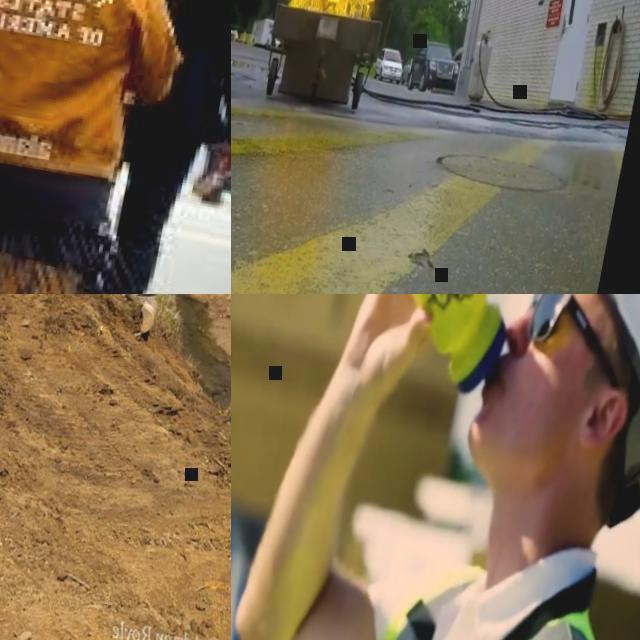helmet: (500, 294, 640, 513)
no_mask: (460, 339, 640, 501)
no_vest: (0, 0, 171, 170), (87, 0, 231, 131)
person: (231, 294, 640, 640), (10, 0, 231, 294), (0, 0, 206, 294), (168, 0, 231, 217)
vehicle: (408, 36, 466, 96), (374, 46, 408, 84), (266, 28, 286, 51), (454, 45, 465, 71), (403, 58, 414, 84)
vest: (343, 529, 640, 640)
